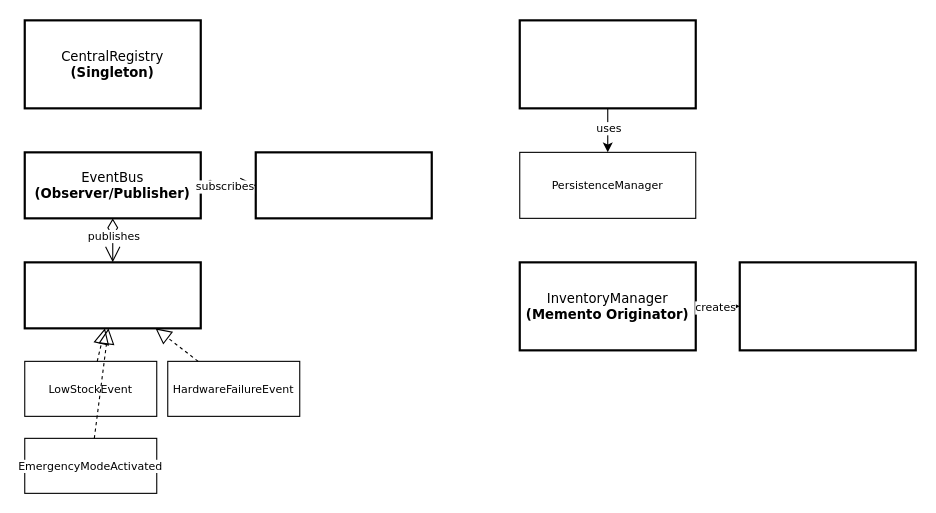
Image size: 936x513. Some labels were removed from this diagram. Each missing label, with the centre of its shape:
EventListener (Observer Interface): pixel 343 185
InventoryState (Memento): pixel 827 306
KioskInterface (Facade): pixel 607 64
SystemEvent (Event Interface): pixel 112 295
